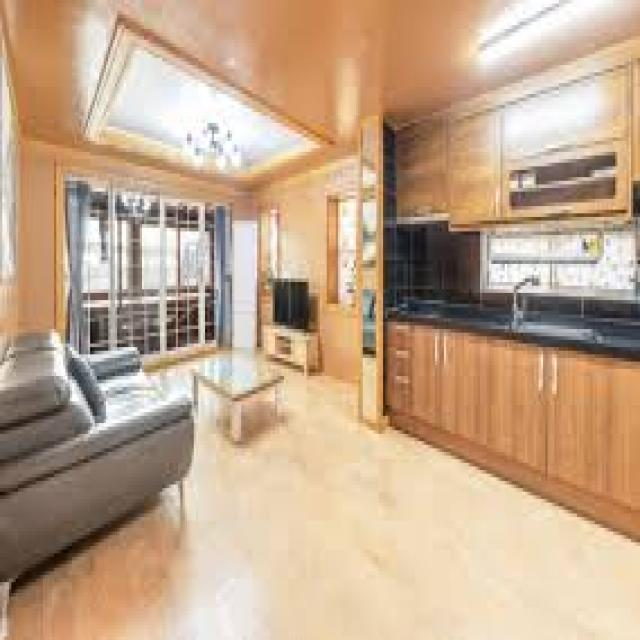Sofa: (5, 322, 196, 589)
Table: (189, 343, 291, 443)
tv: (269, 277, 316, 331)
window: (64, 173, 230, 350)
